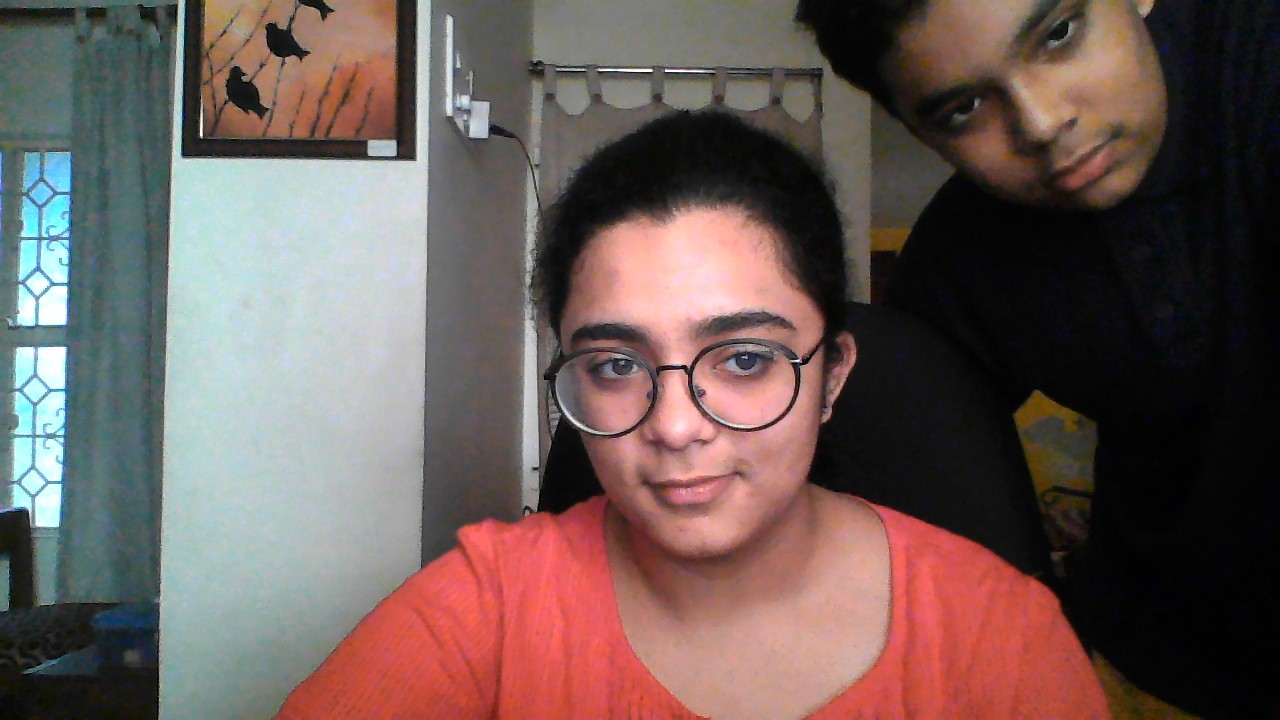person: (503, 97, 862, 675), (784, 1, 1184, 250)
